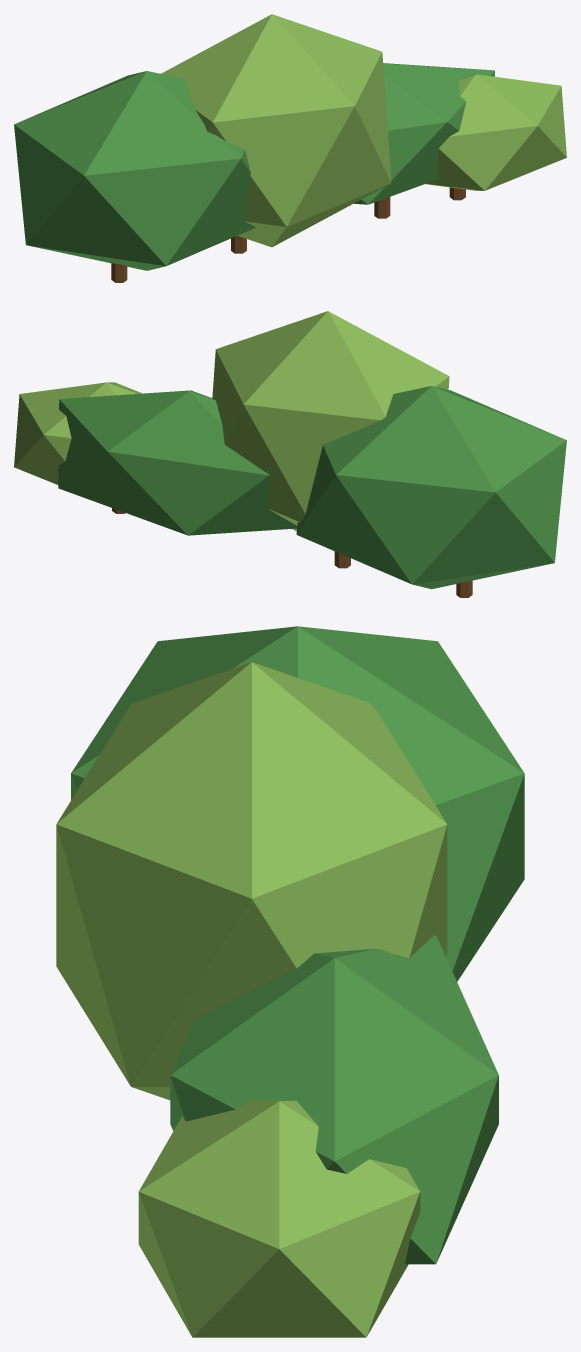
The model's file is shrub_pair.glb.
3 renders of one model, top to bottom at view 1: azimuth 30°, elevation 25°; view 2: azimuth 150°, elevation 25°; view 3: azimuth 270°, elevation 25°, orthographic. The views are drawn at different scales.
Parts seen in each view (by area): view 1: ShrubMass_0, ShrubMass_1, ShrubMass_3, ShrubMass_2; view 2: ShrubMass_0, ShrubMass_1, ShrubMass_2, ShrubMass_3; view 3: ShrubMass_1, ShrubMass_2, ShrubMass_3, ShrubMass_0.
Boxes of the visible parts, left/top/right/bottom form: ShrubMass_0: left=14, top=71, right=255, bottom=270; ShrubMass_1: left=161, top=14, right=391, bottom=247; ShrubMass_3: left=425, top=74, right=566, bottom=190; ShrubMass_2: left=354, top=63, right=494, bottom=204; ShrubMass_0: left=296, top=386, right=566, bottom=589; ShrubMass_1: left=212, top=311, right=449, bottom=531; ShrubMass_2: left=58, top=390, right=297, bottom=535; ShrubMass_3: left=14, top=382, right=142, bottom=484; ShrubMass_1: left=56, top=662, right=447, bottom=1100; ShrubMass_2: left=170, top=935, right=498, bottom=1264; ShrubMass_3: left=138, top=1100, right=420, bottom=1337; ShrubMass_0: left=71, top=626, right=524, bottom=981.
Size of the model in its own units: 2.67 by 1.14 by 1.02.
